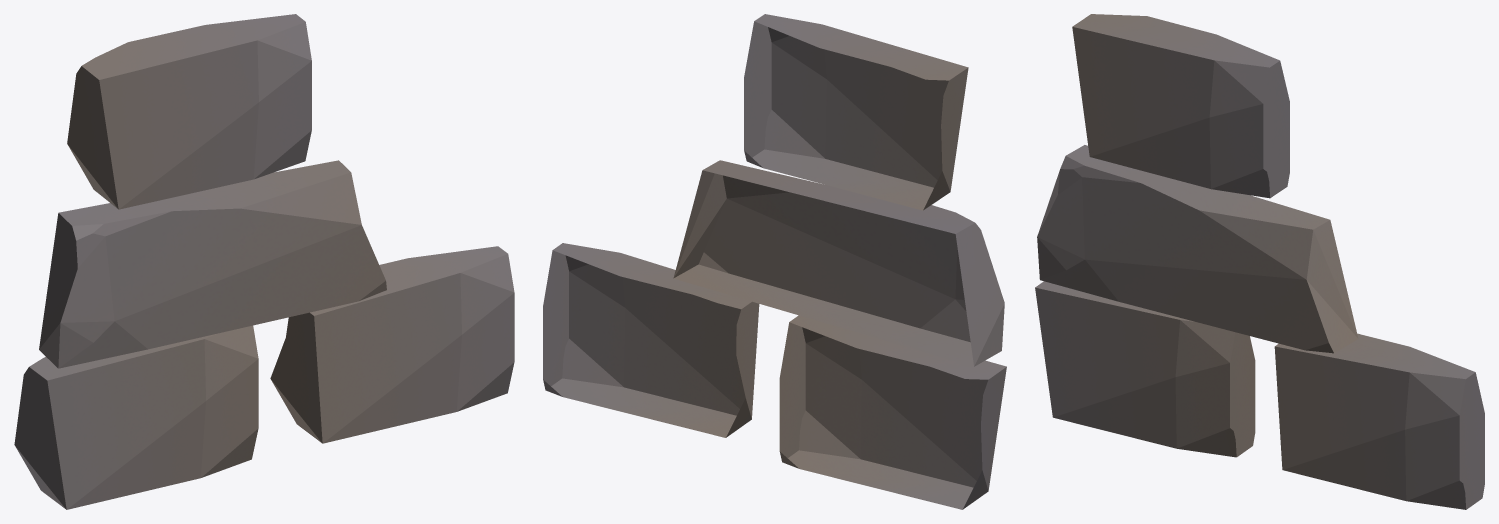
The model's file is kiln_WallR.fbx.
The picture shows the model from 3 angles, left to right: view 1: azimuth 30°, elevation 25°; view 2: azimuth 150°, elevation 25°; view 3: azimuth 330°, elevation 25°; orthographic projection. The views are drawn at different scales.
Visible parts, largest first — view 1: 立方体.020; view 2: 立方体.020; view 3: 立方体.020.
Boxes of the visible parts, x1,y1,x2,y2 form: 立方体.020: (14, 14, 514, 509); 立方体.020: (543, 14, 1006, 509); 立方体.020: (1035, 14, 1484, 509).
Bounding box in the file's own units: 160 × 143 × 25.03.
